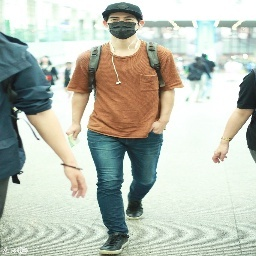correctlyWear: (102, 13, 145, 39)
